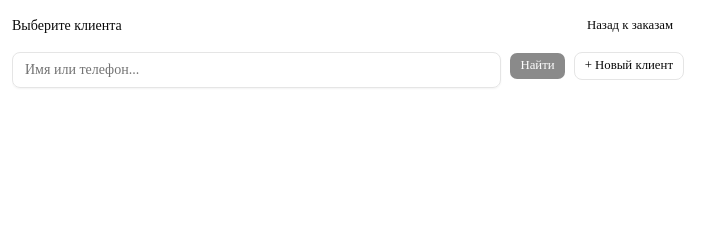
it: NewOrderClient › bounces back to search when the phone already exists
Click the button "+ Новый клиент" at (629, 66), box [574,52,684,80]
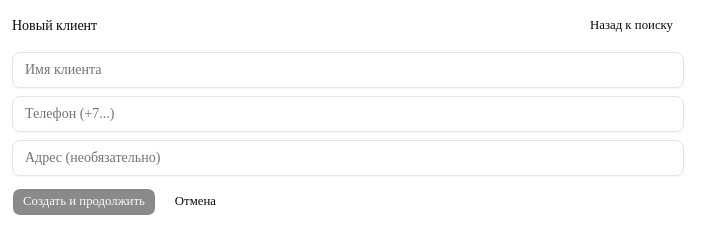
Type "Пётр" into the field with placeholder "Имя клиента" at (348, 70), box [12,52,684,88]
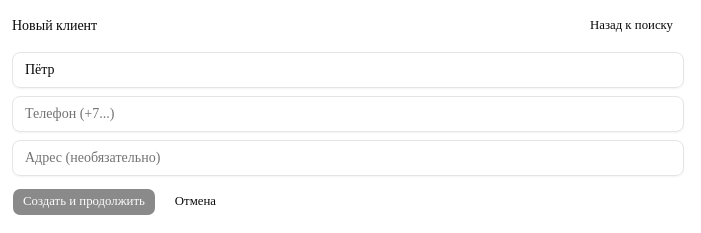
Type "+77071234567" into the field with placeholder "Телефон (+7...)" at (348, 114), box [12,96,684,132]
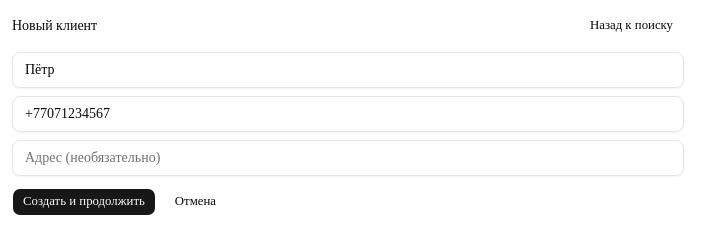
Click the button "Создать и продолжить" at (84, 202), box [12,188,156,216]
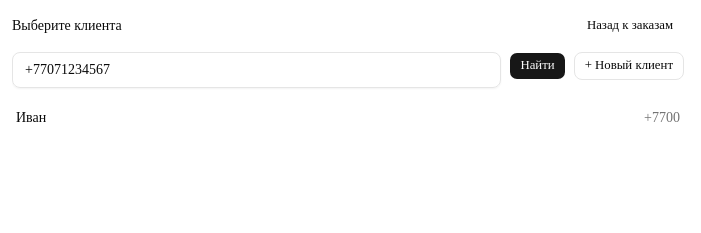
Now the field with placeholder "Имя или телефон..." is shown, box [12,52,502,88]
